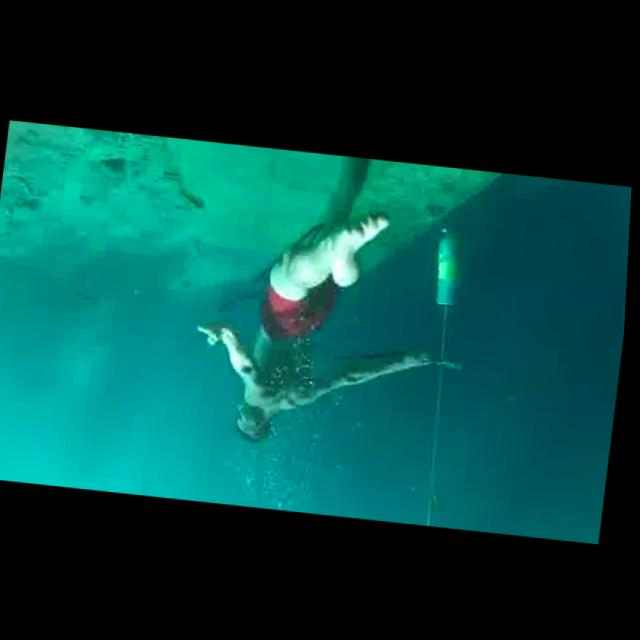human: (184, 140, 462, 464)
